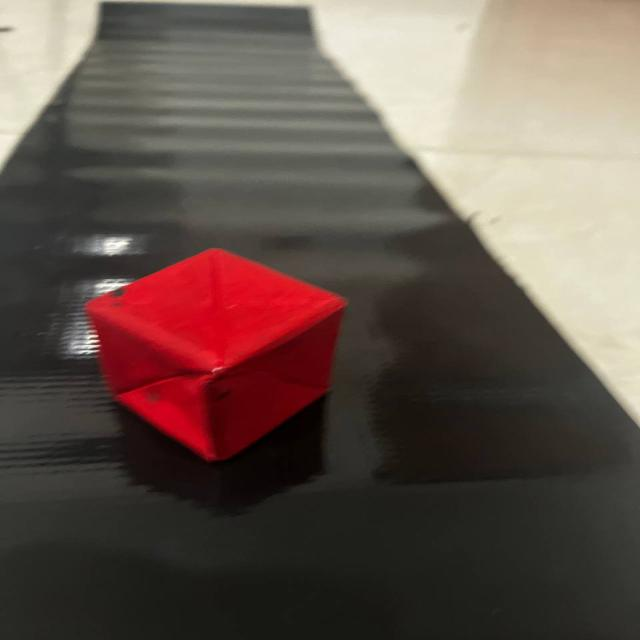Rojo: (72, 226, 366, 478)
